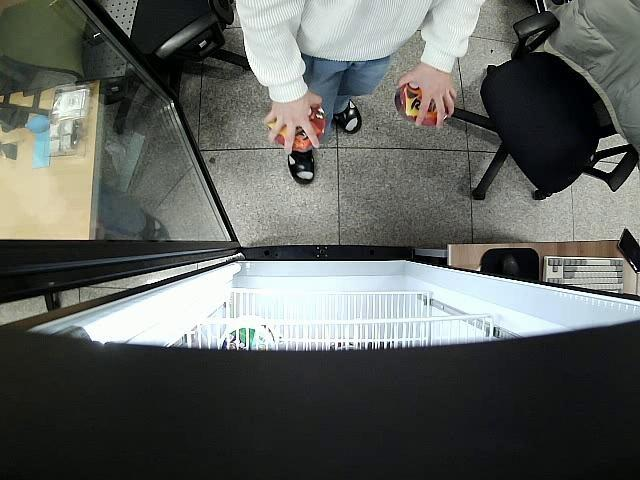05_nuguri_L: (268, 107, 326, 152), (396, 84, 448, 126)
